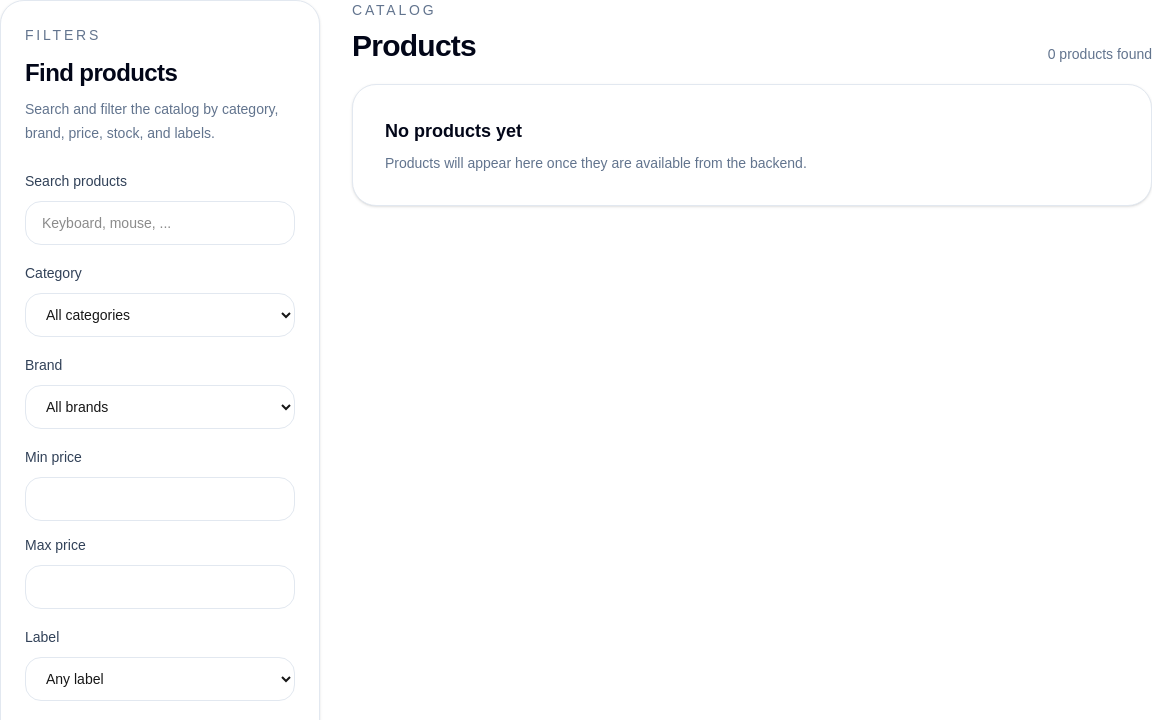
Test: ProductList › clears active filters
Expected: the heading "No products yet" is shown, x1=385 y1=121 x2=522 y2=141
Type "keyboard" into the field labelled "Search products" at (160, 223), box x1=25 y1=201 x2=295 y2=245
(page scrolled)
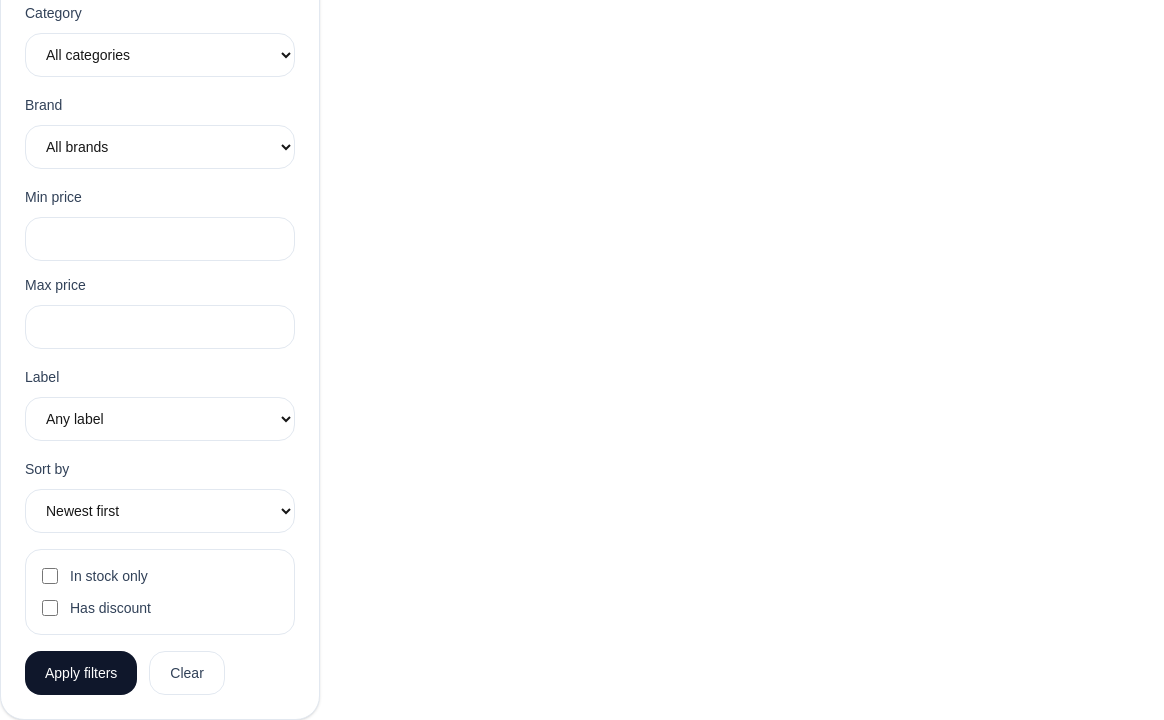
Click the button "Apply filters" at (81, 673), box x1=25 y1=651 x2=137 y2=695
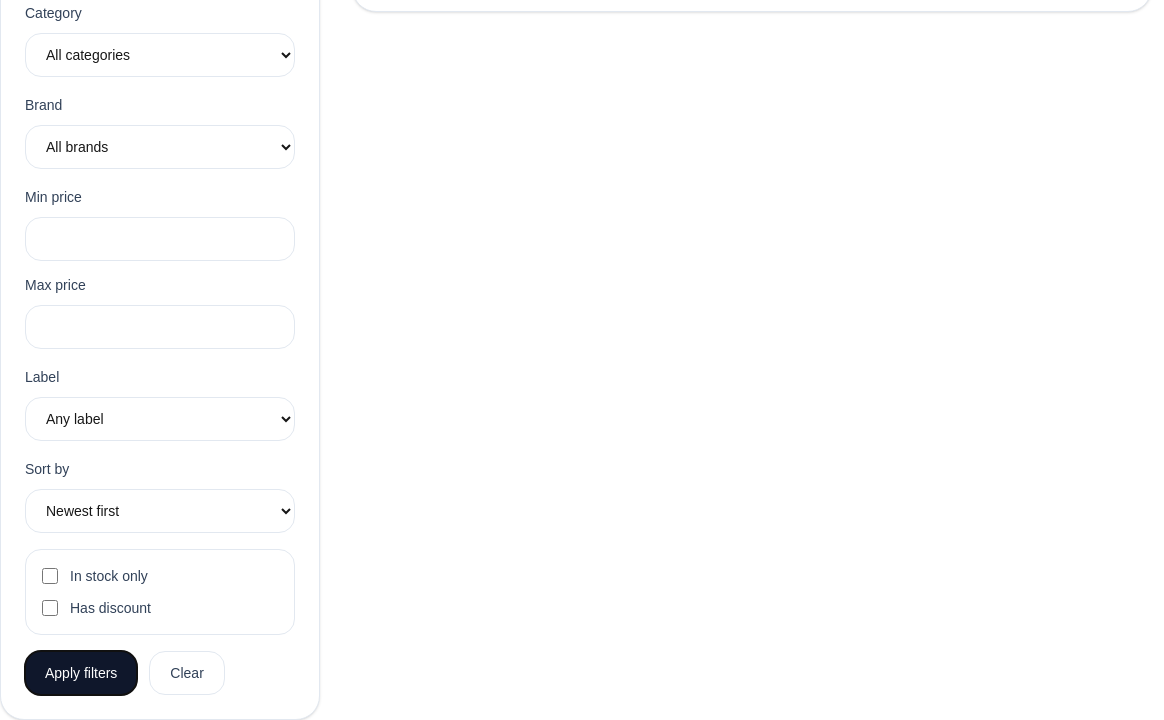
Click the button "Clear" at (187, 673), box x1=149 y1=651 x2=225 y2=695
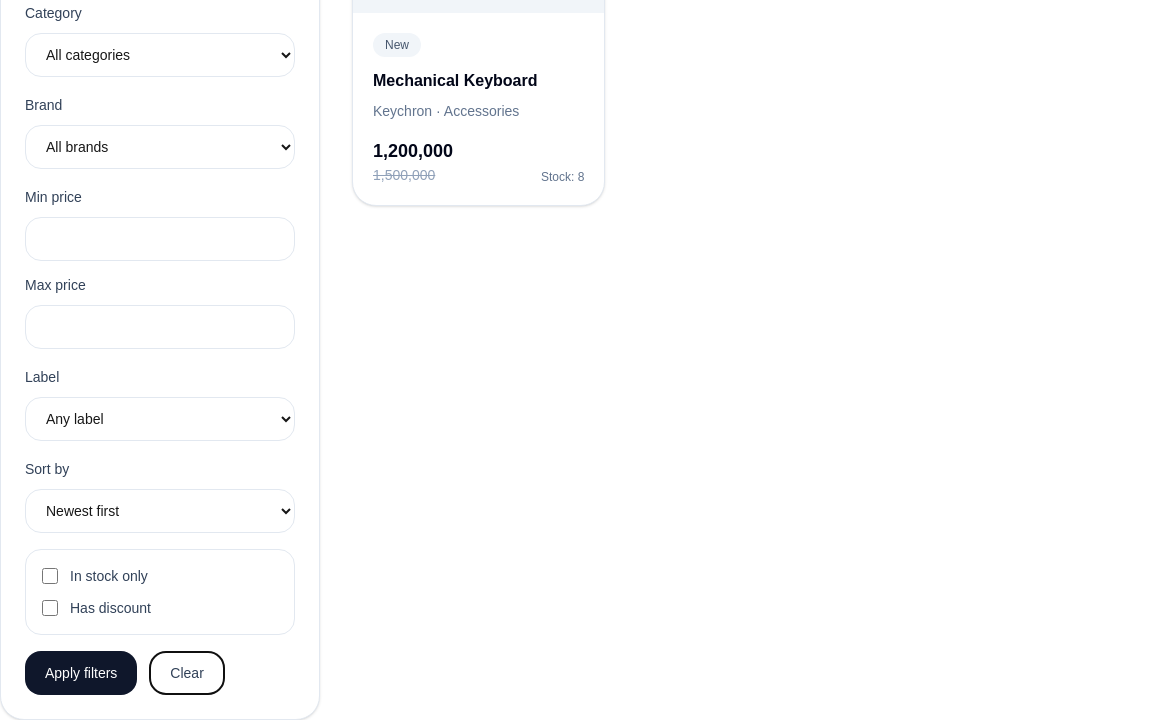
Expected: the heading "Mechanical Keyboard" is shown, x1=373 y1=72 x2=538 y2=90
